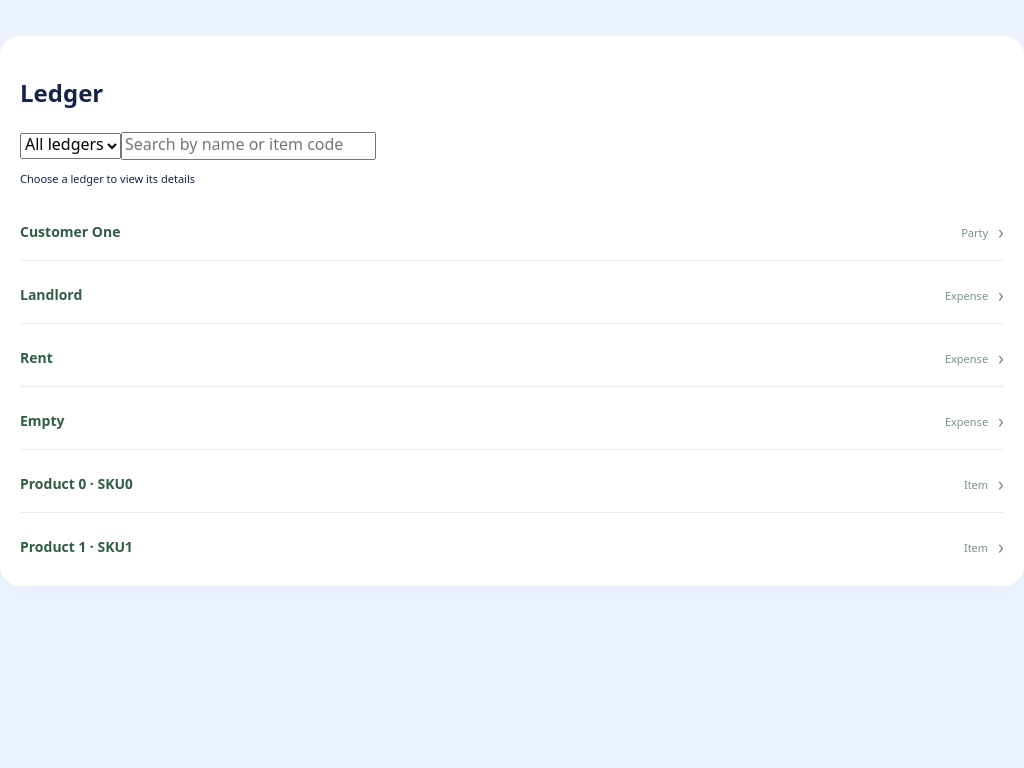
Test case: uses an in-field hint and finds item codes without truncating matching results
Type "Product" into the search field with placeholder "Search by name or item code" at x=248, y=146, box [121, 132, 376, 160]
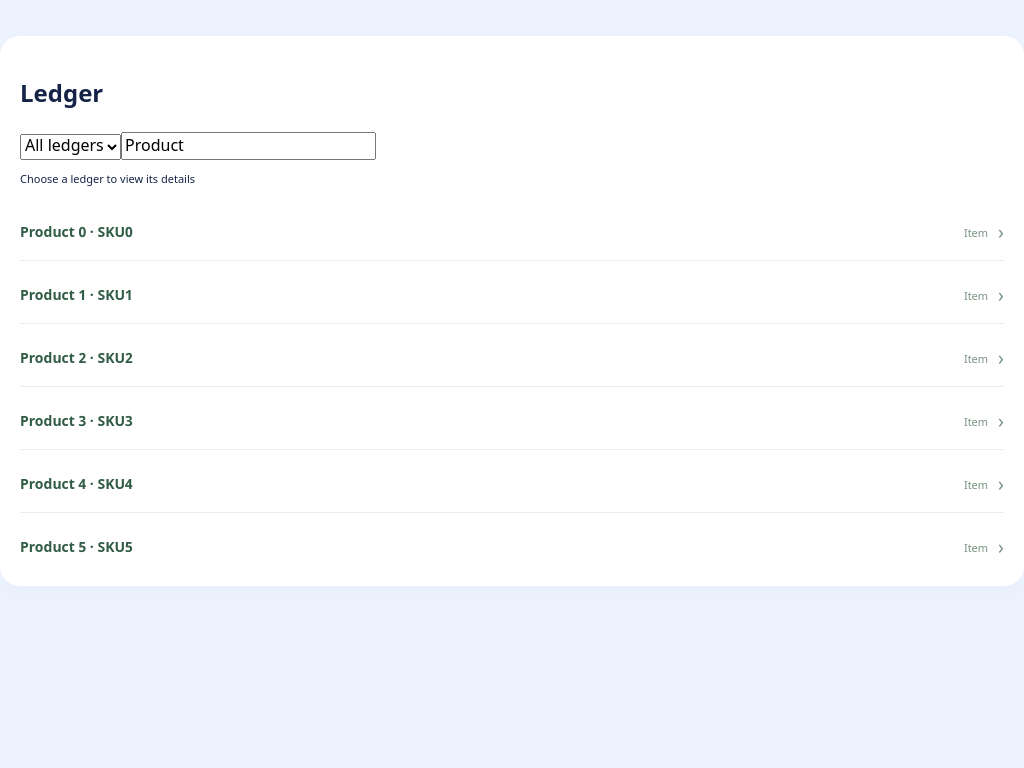
Replace the text in the search field with placeholder "Search by name or item code" with "SKU74" at x=248, y=146, box [121, 132, 376, 160]
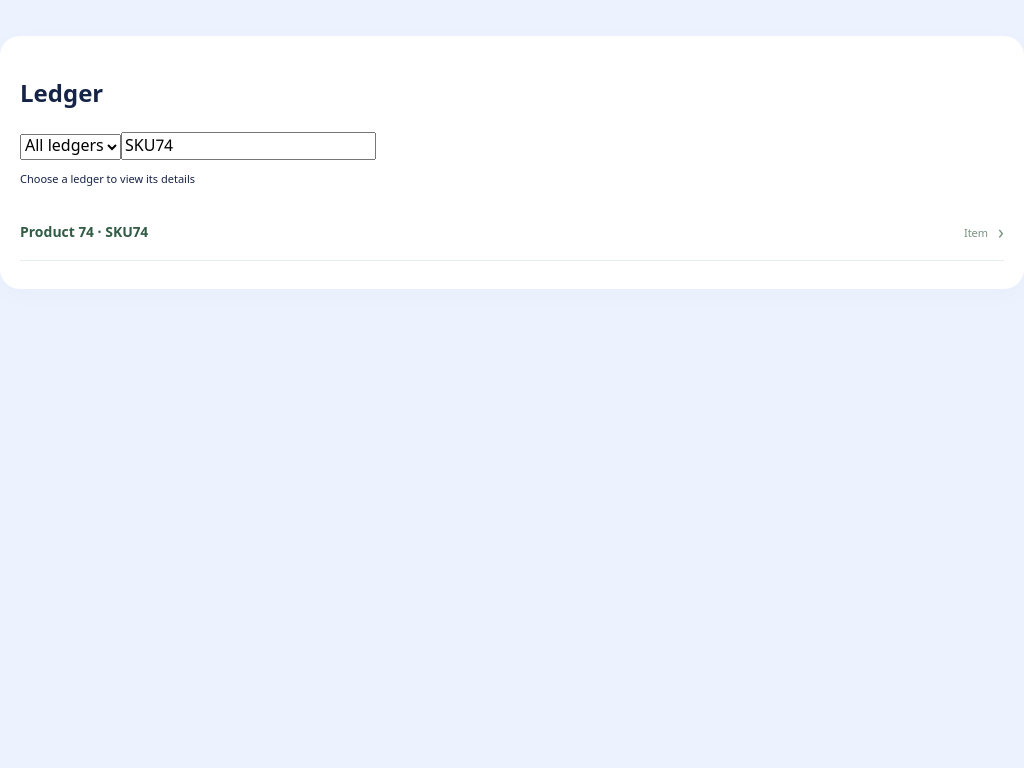
Now the button "Product 74 · SKU74 Item ›" is shown, box [20, 206, 1004, 261]
Now the button "Product 0 · SKU0 Item" is gone
